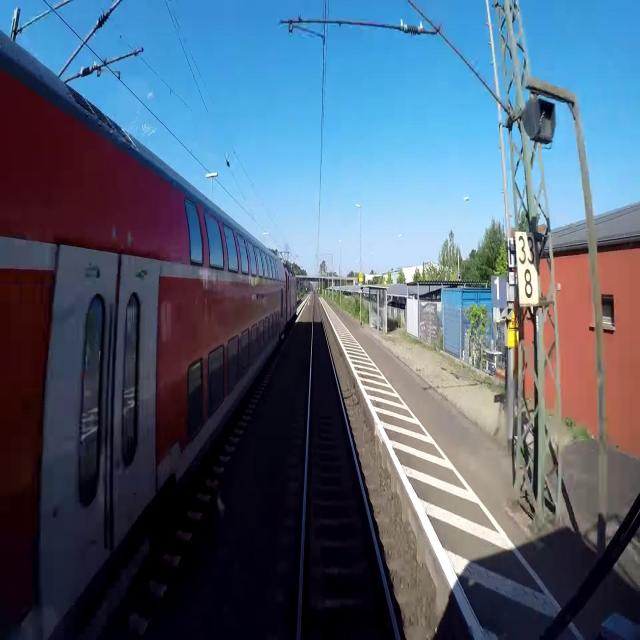rail-track: (301, 293, 395, 639)
